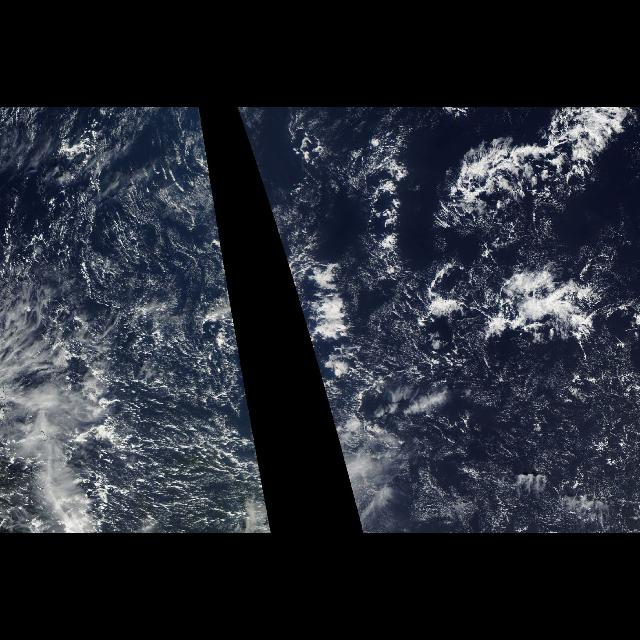Fish: (354, 108, 640, 366)
Gravel: (79, 228, 274, 532), (274, 228, 314, 352)
Sugar: (0, 111, 234, 319), (390, 342, 638, 522)
